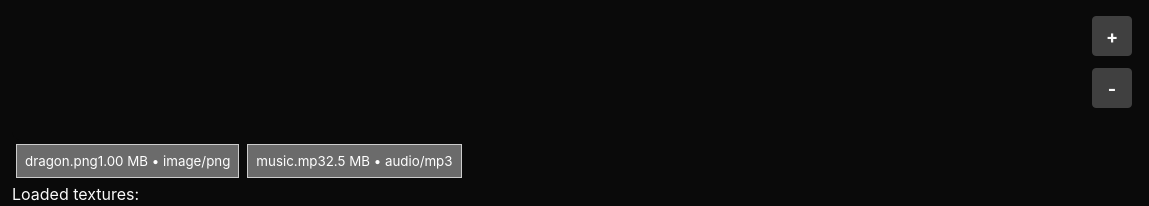
Web Client TypeScript & WASM Systems Integration Tests › Asset Management - TypeScript & WASM Bridge › should integrate assets with WASM texture loading
(page scrolled)
Note: User expects assets to be loadable in WASM engine
Click the text "dragon.png": (61, 161) [25,153,98,169]
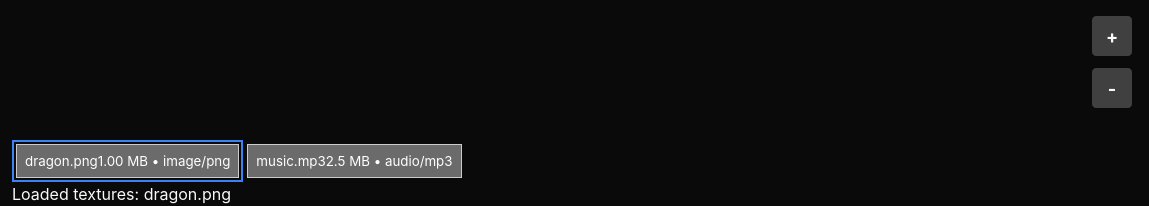
Expected: the text with test id "loaded-textures" shows "dragon.png", [144,184,231,204]
